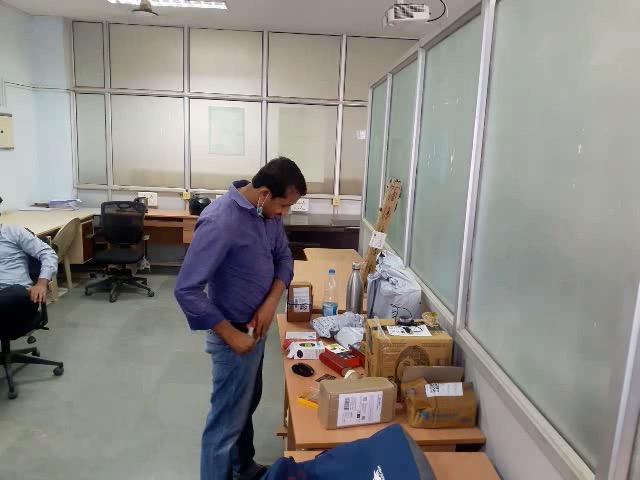shoplifting: (168, 270, 314, 377)
